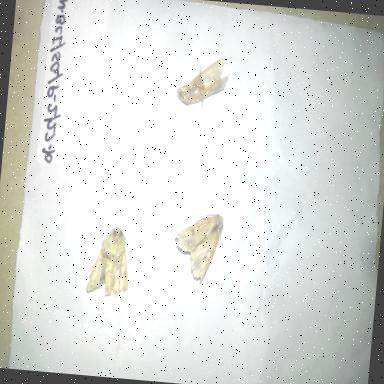abw: (165, 204, 230, 288), (84, 212, 138, 304), (173, 51, 234, 112)
